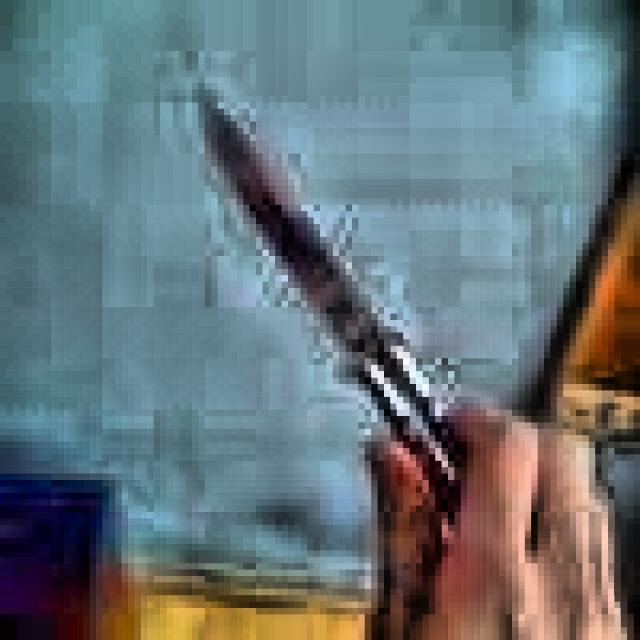knife: (204, 108, 460, 520)
